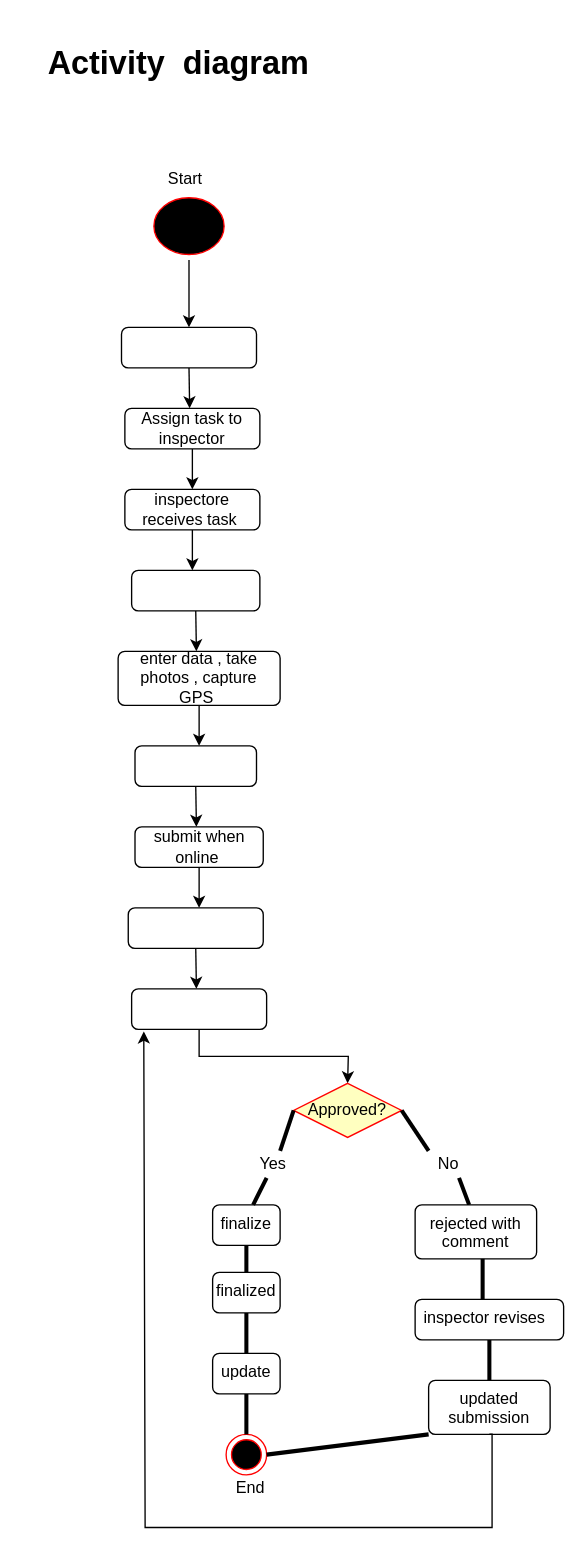
Image size: 587x1562. Some labels were removed from this diagram. Here are the shapes that lost their labels. From the top down, the centre of each, then its label:
the point at 188,347: Create inspecton form
the point at 195,590: condact inspection
the point at 195,765: save as draft
the point at 195,927: inspection result submitted
the point at 198,1008: superviser review
